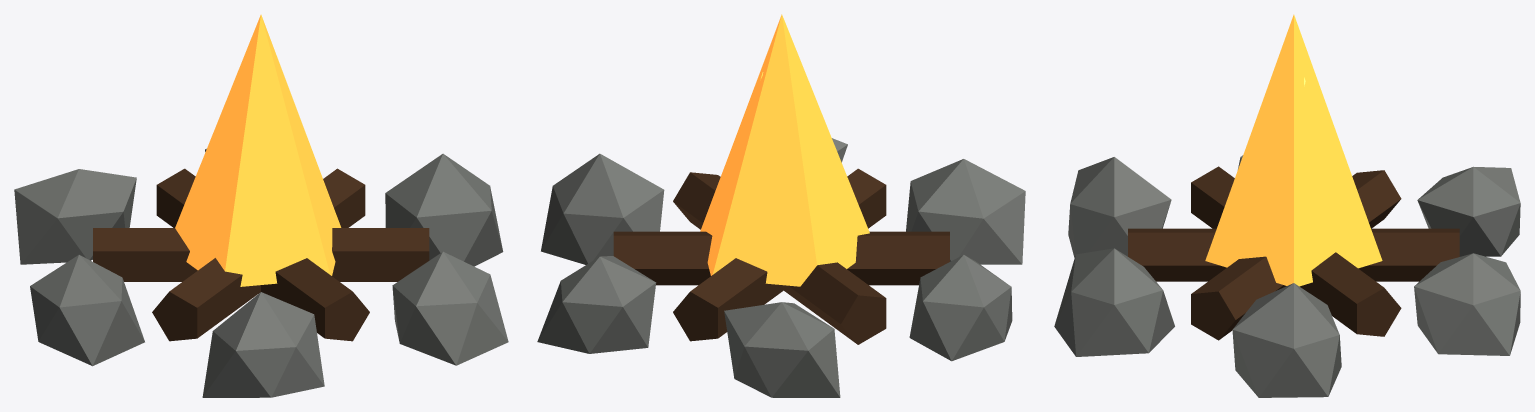
The model's file is campfire.glb.
3 renders of one model, left to right at view 1: azimuth 30°, elevation 25°; view 2: azimuth 150°, elevation 25°; view 3: azimuth 270°, elevation 25°, orthographic.
Visible parts, largest first — view 1: campfire; view 2: campfire; view 3: campfire.
Part boxes in pixels (<box>): campfire: <box>14,14,508,397</box>; campfire: <box>537,14,1025,397</box>; campfire: <box>1054,14,1520,397</box>.
Size of the model in its own units: 0.993 by 0.59 by 0.9002.
